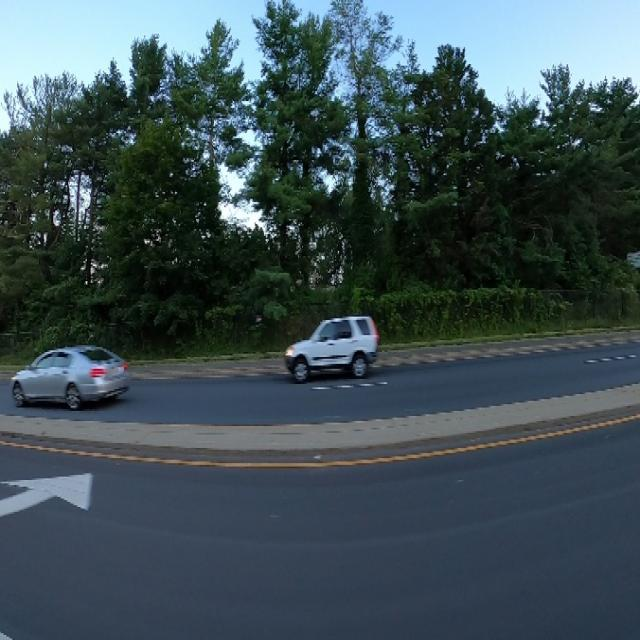cars: (12, 338, 131, 416), (284, 308, 379, 388)
